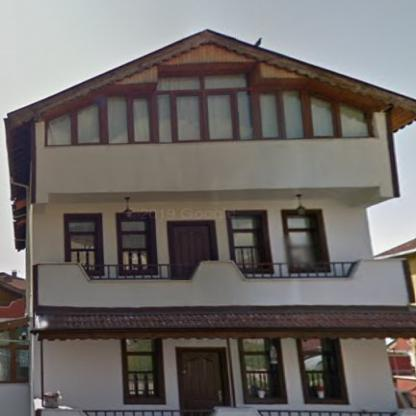door: (178, 350, 223, 415), (172, 223, 213, 278)
window: (47, 74, 372, 144), (242, 339, 277, 397), (126, 340, 156, 396), (301, 340, 332, 394), (286, 216, 316, 266), (231, 216, 260, 267), (1, 326, 28, 380), (121, 220, 149, 270), (69, 221, 95, 270)
